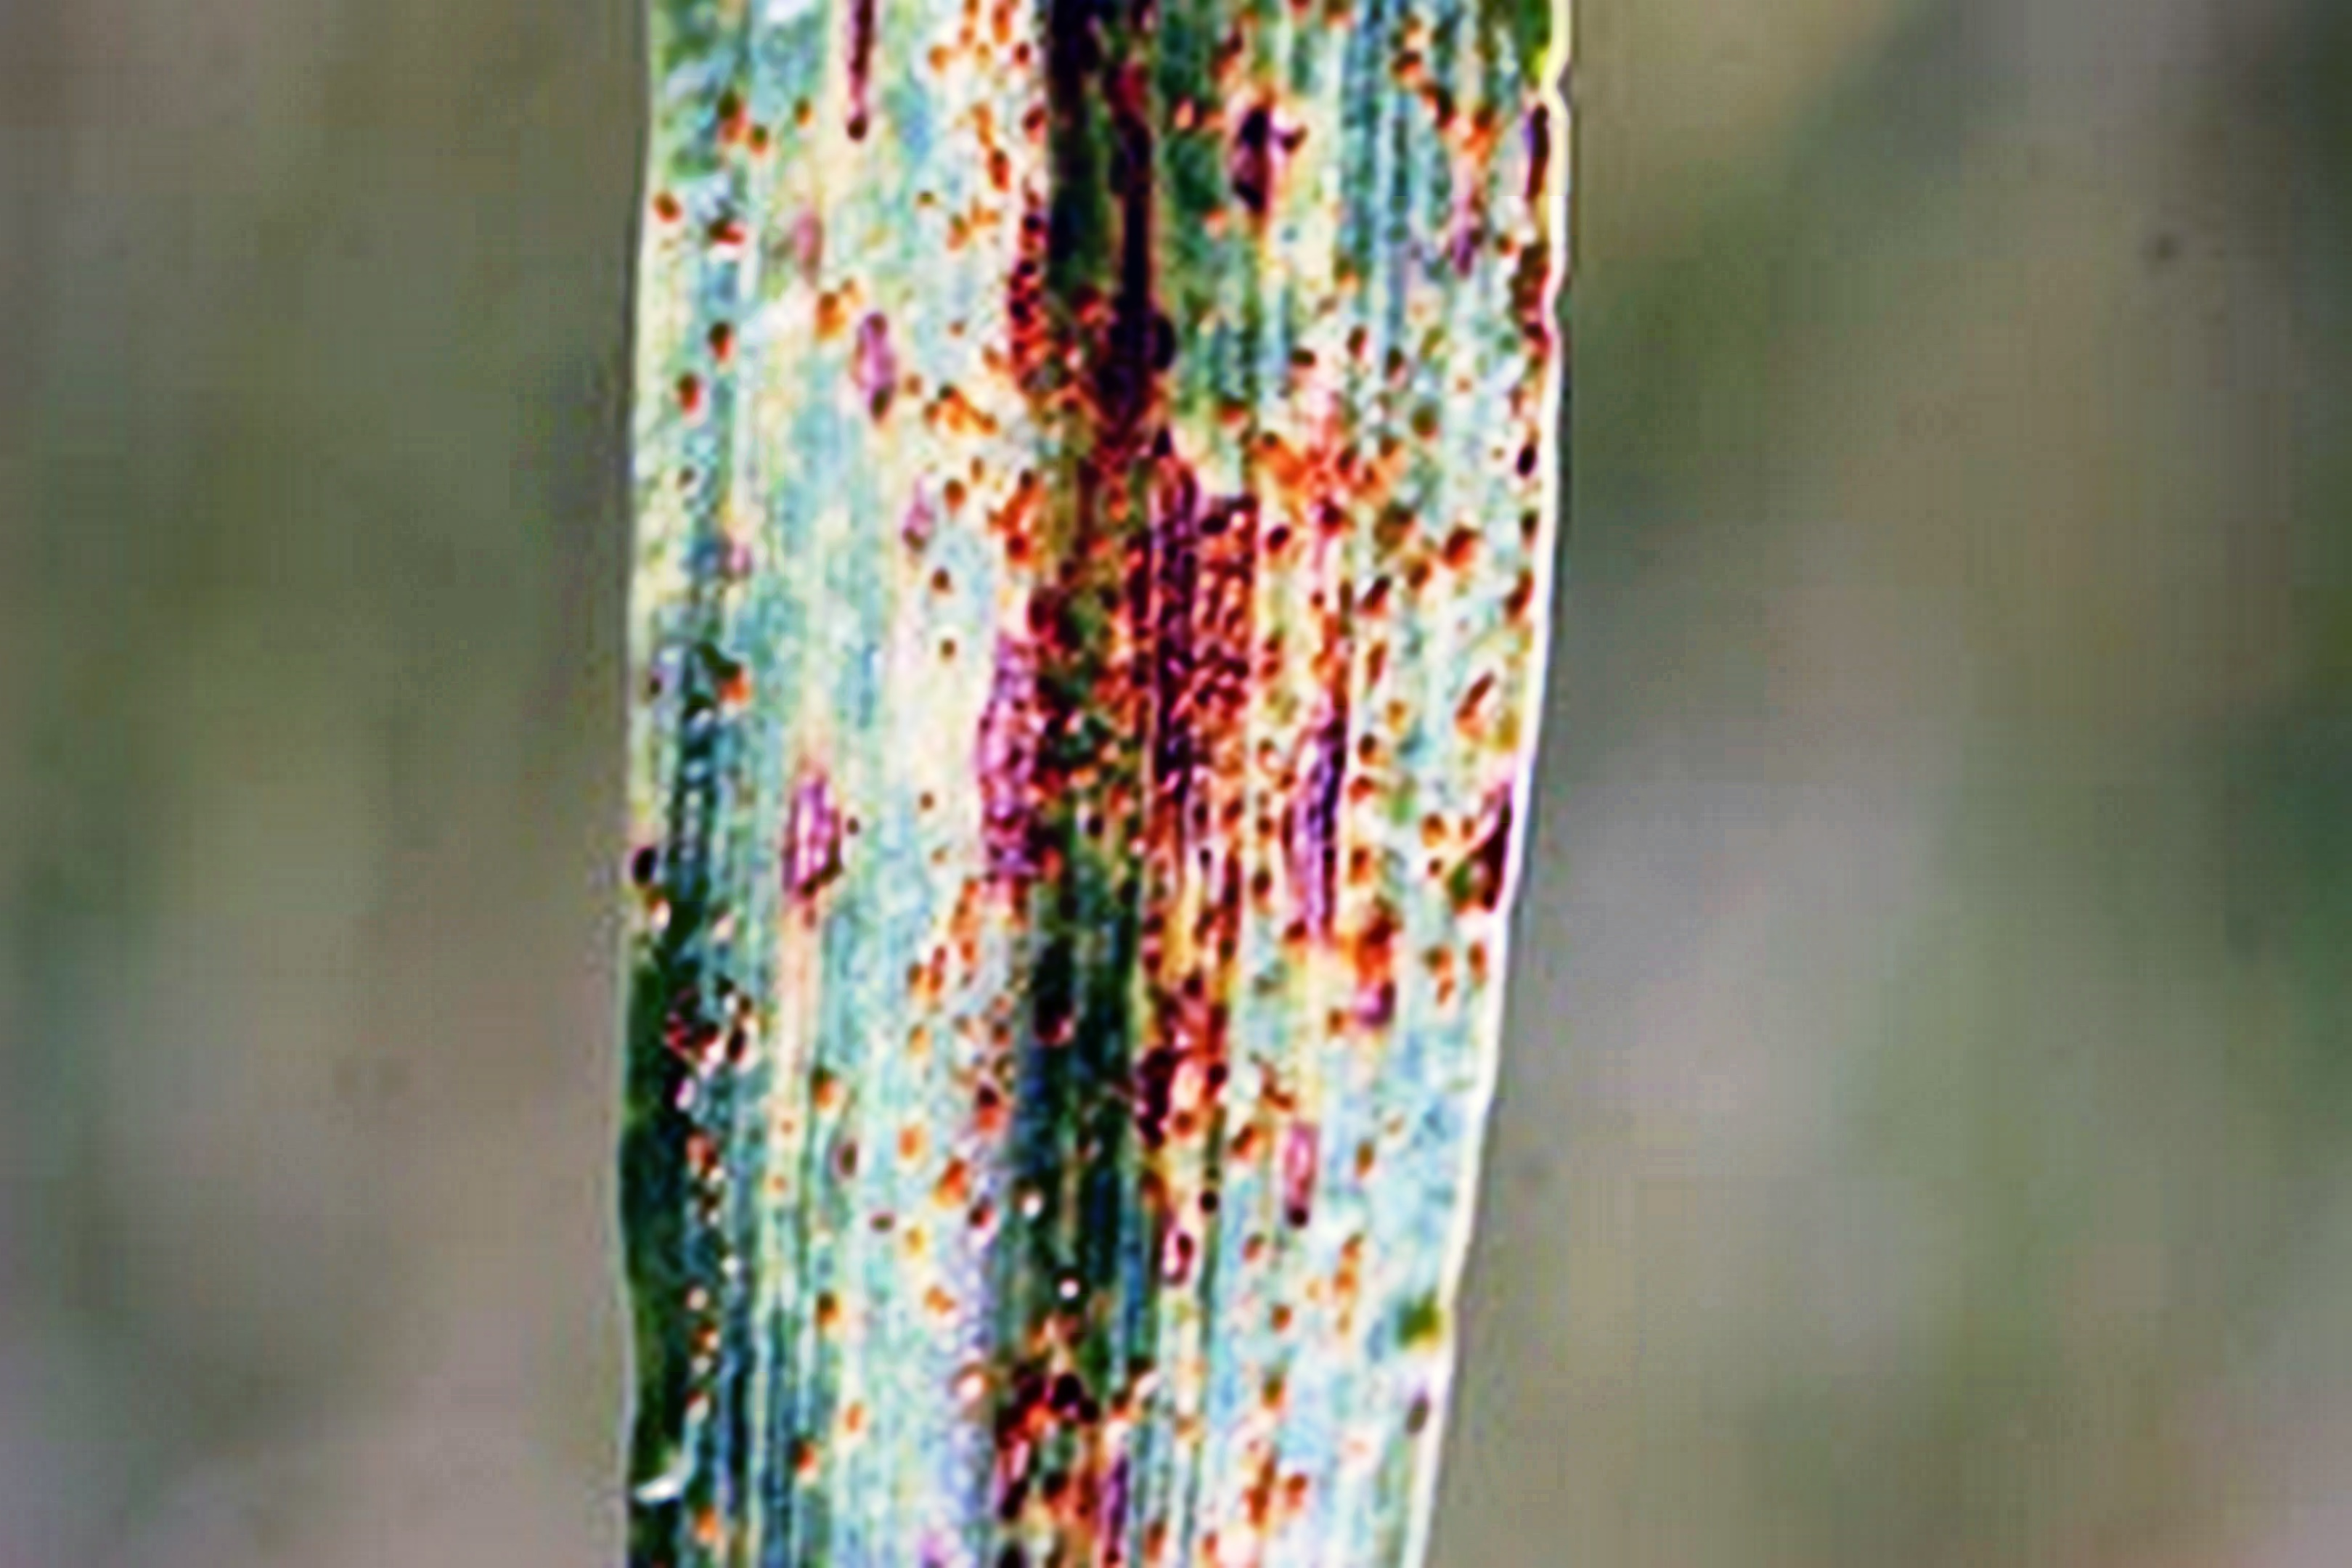Leaf Rust: (679, 47, 1540, 1512)
